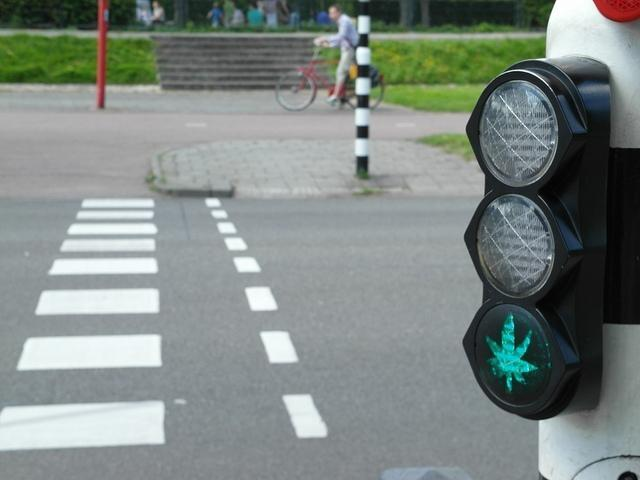bicycle: (276, 44, 386, 112)
